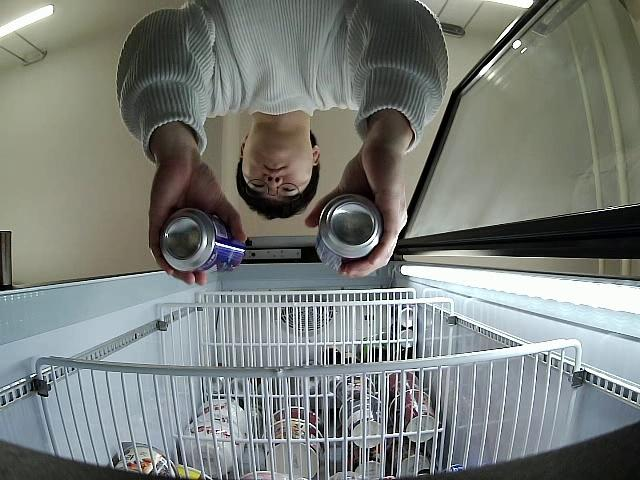00_hand: (306, 140, 407, 279), (147, 154, 246, 284)
14_welchsGrape: (158, 205, 246, 274), (315, 194, 386, 272)
